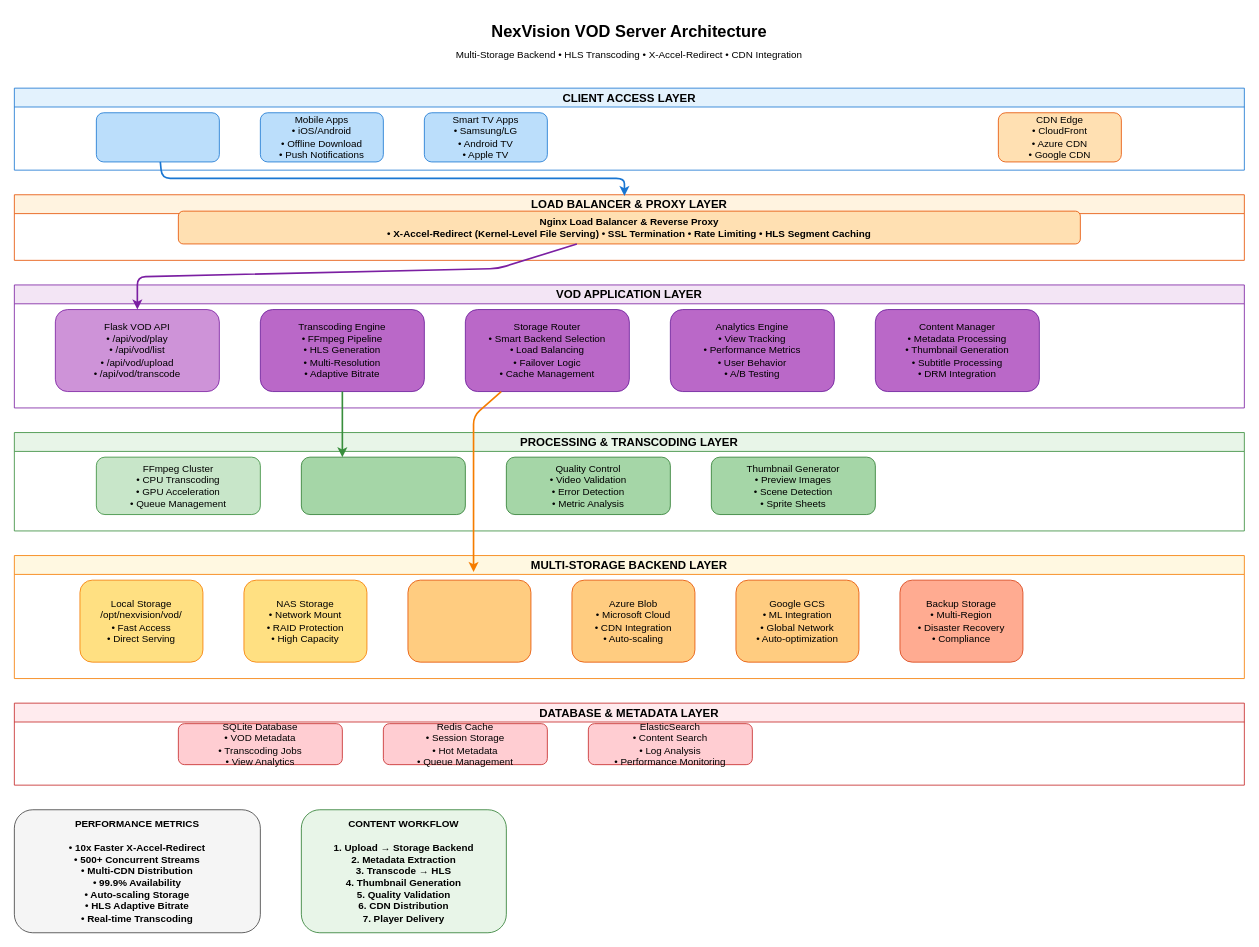
Some shapes in this 1259 by 947 pixel diagram are drawn without their labels. The shapes that lost their labels are listed below. From the top down, each one's centre as x and y in pixels, then its label:
the point at 157,137: VOD Player (HTML5 Video) • HLS Support • Adaptive Bitrate
the point at 383,485: HLS Segmenter • Adaptive Streams • Multiple Resolutions • Playlist Generation
the point at 469,620: Amazon S3 • Scalable Storage • CloudFront CDN • Global Distribution
